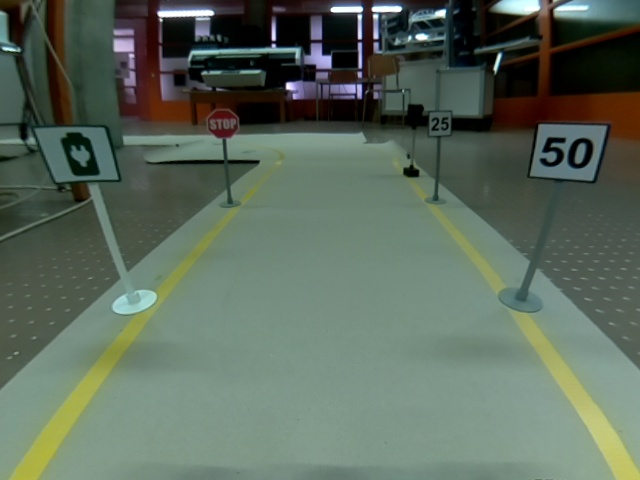battery: (31, 125, 122, 184)
speed25: (428, 110, 453, 137)
speed50: (528, 123, 611, 183)
stop: (206, 108, 240, 139)
trafficLightOff: (407, 104, 425, 125)
